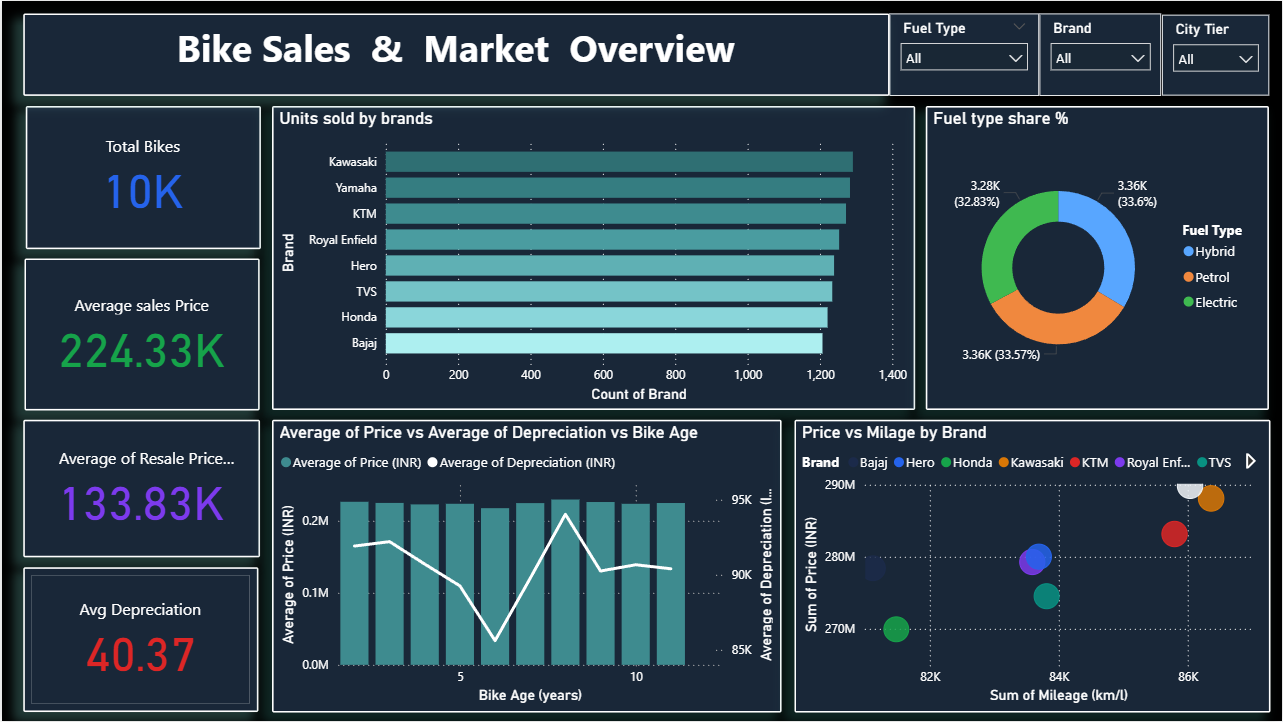

The page's visual inventory and layout, read from the dashboard file:
{"tool":"powerbi","page":{"name":"Page 1","canvas":[1280,720],"ordinal":0},"visuals":[{"type":"cardVisual","fields":{"Data":["CountNonNull(cleaned_bike_sales.Brand)"]},"box":[23.4,105.3,235.2,143],"z":0},{"type":"cardVisual","fields":{"Data":["Avg(cleaned_bike_sales.Price (INR))"]},"box":[22.1,257.3,235.2,152.1],"z":1000},{"type":"cardVisual","fields":{"Data":["Avg(cleaned_bike_sales.Resale Price (INR))"]},"box":[21.7,418.6,236.5,137.5],"z":2000},{"type":"cardVisual","fields":{"Data":["Avg(cleaned_bike_sales.Depreciation %)"]},"box":[21.7,565.8,235.3,144.8],"z":3000},{"type":"clusteredBarChart","title":"Units sold by brands","fields":{"Category":["cleaned_bike_sales.Brand"],"Y":["CountNonNull(cleaned_bike_sales.Brand)"]},"box":[270.6,105.3,643.3,304.1],"z":4000},{"type":"donutChart","title":"Fuel type share %","fields":{"Category":["cleaned_bike_sales.Fuel Type"],"Y":["CountNonNull(cleaned_bike_sales.Fuel Type)"]},"box":[924,105.3,343.1,304.1],"z":5000},{"type":"slicer","fields":{"Values":["cleaned_bike_sales.Brand"]},"box":[1037.5,12.1,121.9,82],"z":6000},{"type":"slicer","fields":{"Values":["cleaned_bike_sales.City Tier"]},"box":[1159.4,13.3,107.4,80.8],"z":7000},{"type":"slicer","fields":{"Values":["cleaned_bike_sales.Fuel Type"]},"box":[887.9,12.1,149.6,82],"z":8000},{"type":"textbox","box":[21.7,12.1,866.2,82],"z":9000},{"type":"lineClusteredColumnComboChart","title":"Average of Price  vs Average of Depreciation vs Bike Age ","fields":{"Category":["cleaned_bike_sales.Bike Age (years)"],"Y":["Avg(cleaned_bike_sales.Price (INR))"],"Y2":["Avg(cleaned_bike_sales.Depreciation (INR))"]},"box":[270.6,418.5,509.5,292.4],"z":10000},{"type":"scatterChart","title":"Price vs Milage by Brand","fields":{"X":["Sum(cleaned_bike_sales.Mileage (km/l))"],"Y":["Sum(cleaned_bike_sales.Price (INR))"],"Series":["cleaned_bike_sales.Brand"],"Size":["CountNonNull(cleaned_bike_sales.Brand)"]},"box":[793.1,418.5,475.7,292.4],"z":11000}]}

Visuals, with their boxes in screenshot pixels (x1, y1, x2, y2), scaled from the page's 1280x720 canvas onto the 1283x722 screenshot:
cardVisual - CountNonNull(cleaned_bike_sales.Brand): select_region(23, 106, 259, 249)
cardVisual - Avg(cleaned_bike_sales.Price (INR)): select_region(22, 258, 258, 411)
cardVisual - Avg(cleaned_bike_sales.Resale Price (INR)): select_region(22, 420, 259, 558)
cardVisual - Avg(cleaned_bike_sales.Depreciation %): select_region(22, 567, 258, 713)
"Units sold by brands" clusteredBarChart: select_region(271, 106, 916, 411)
"Fuel type share %" donutChart: select_region(926, 106, 1270, 411)
slicer - cleaned_bike_sales.Brand: select_region(1040, 12, 1162, 94)
slicer - cleaned_bike_sales.City Tier: select_region(1162, 13, 1270, 94)
slicer - cleaned_bike_sales.Fuel Type: select_region(890, 12, 1040, 94)
textbox: select_region(22, 12, 890, 94)
"Average of Price  vs Average of Depreciation vs Bike Age " lineClusteredColumnComboChart: select_region(271, 420, 782, 713)
"Price vs Milage by Brand" scatterChart: select_region(795, 420, 1272, 713)
